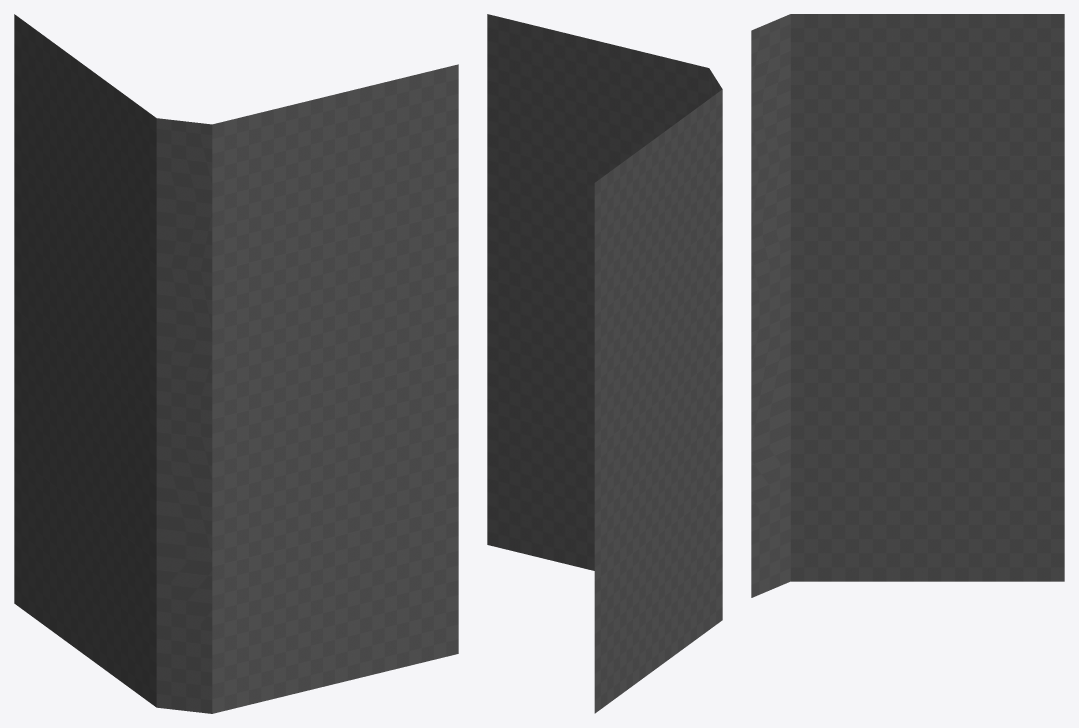
3 views of the same model, side by side, from view 1: azimuth 30°, elevation 25°; view 2: azimuth 150°, elevation 25°; view 3: azimuth 270°, elevation 25° (orthographic). The views are drawn at different scales.
Parts seen in each view (by area): view 1: 0; view 2: 0; view 3: 0.
Part boxes in pixels (x1=…): 0: x1=14, y1=14, x2=458, y2=713; 0: x1=487, y1=14, x2=722, y2=713; 0: x1=751, y1=14, x2=1064, y2=597.
Size of the model in its own units: 2 by 4 by 2.
1 material, 1 textured.
